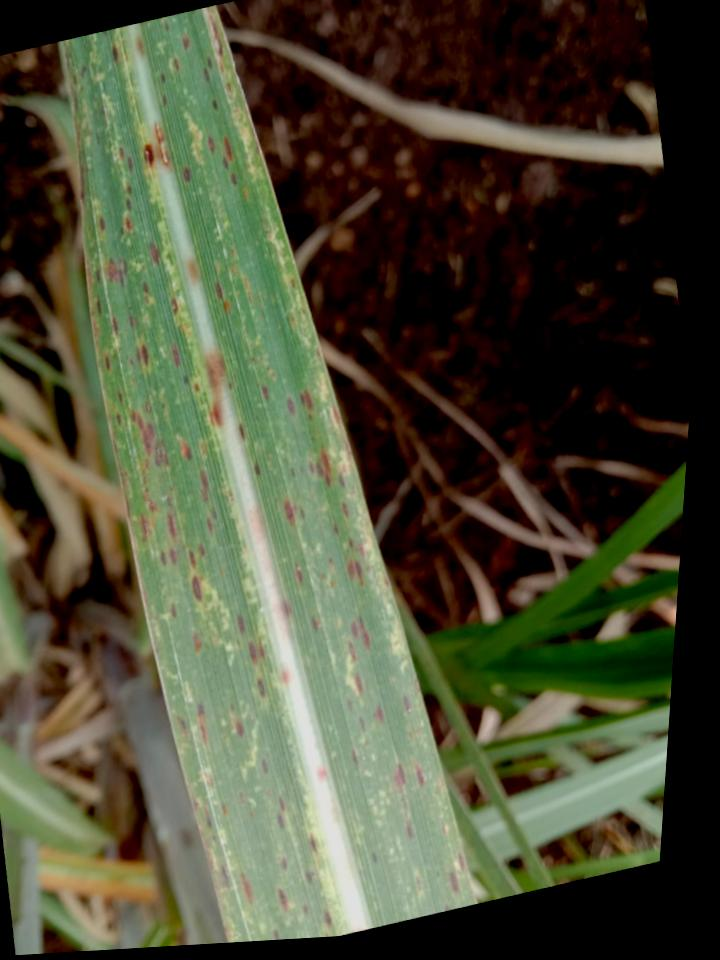RedRot: (202, 349, 226, 432), (152, 117, 175, 171), (186, 260, 200, 285), (132, 35, 143, 57), (280, 667, 291, 686), (317, 768, 328, 780)
Rust: (68, 48, 219, 609), (236, 377, 393, 600), (187, 782, 336, 940), (278, 596, 390, 776), (154, 6, 253, 209), (236, 607, 272, 705), (394, 792, 419, 840), (224, 699, 251, 737), (446, 848, 466, 899), (212, 275, 234, 315), (196, 703, 210, 750), (412, 755, 427, 790), (392, 761, 409, 790), (173, 716, 191, 738), (189, 629, 203, 655), (401, 691, 414, 716), (259, 757, 270, 780), (168, 601, 179, 621)
